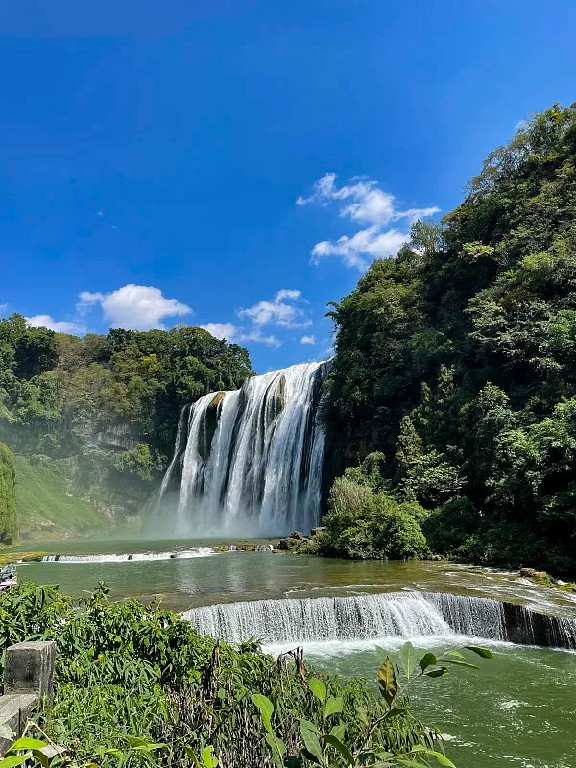Huangguoshu: (158, 362, 326, 540)
